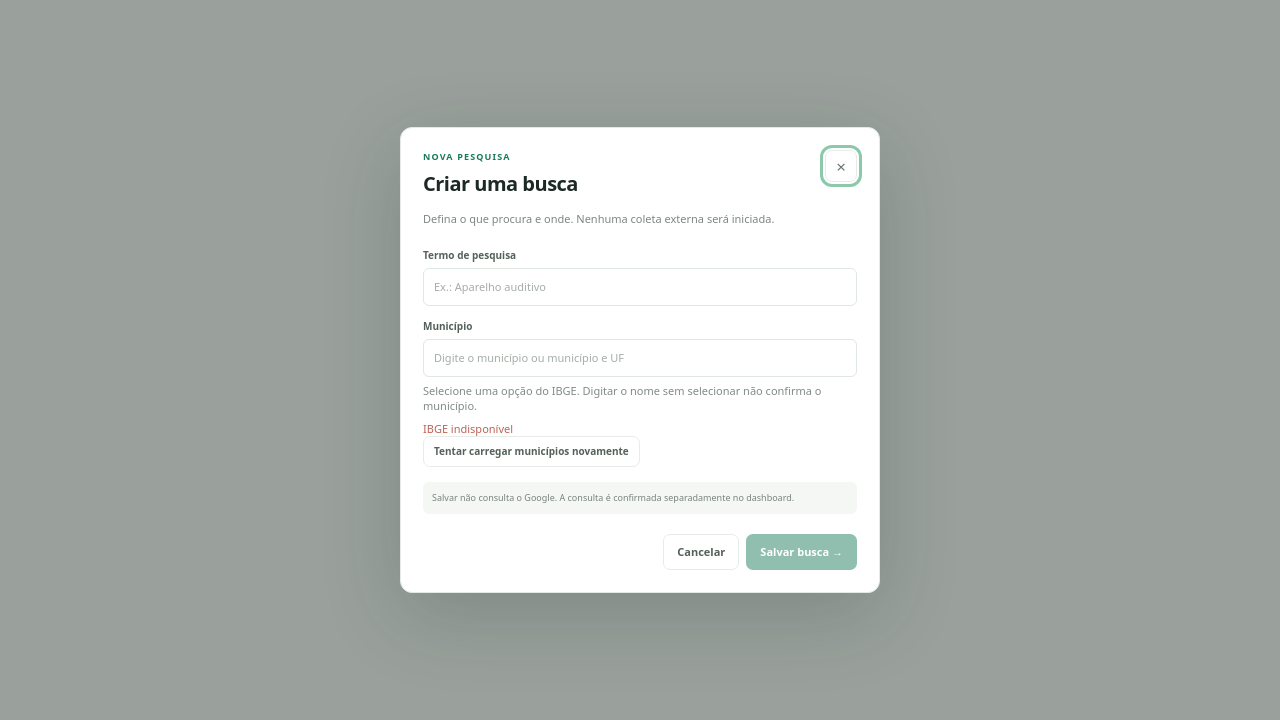
it: catalog errors are shown, retry loads suggestions and no default city is silently chosen
expect the message reads "IBGE indisponível": met, box [423, 421, 513, 436]
expect the dropdown is empty: met, box [423, 339, 857, 377]
Click the button "Tentar carregar municípios novamente" at (531, 451), box [423, 436, 640, 467]
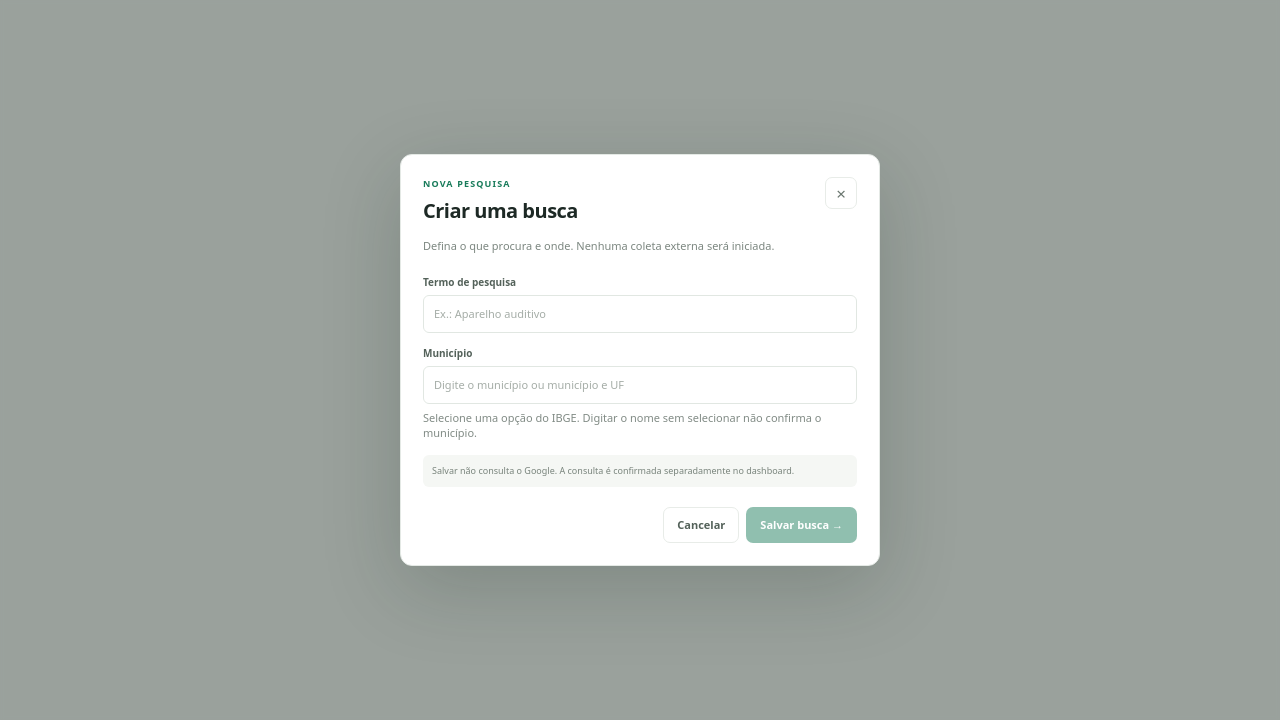
expect the dropdown is enabled: met
Type "belem pa" into the dropdown at (640, 385), box [423, 366, 857, 404]
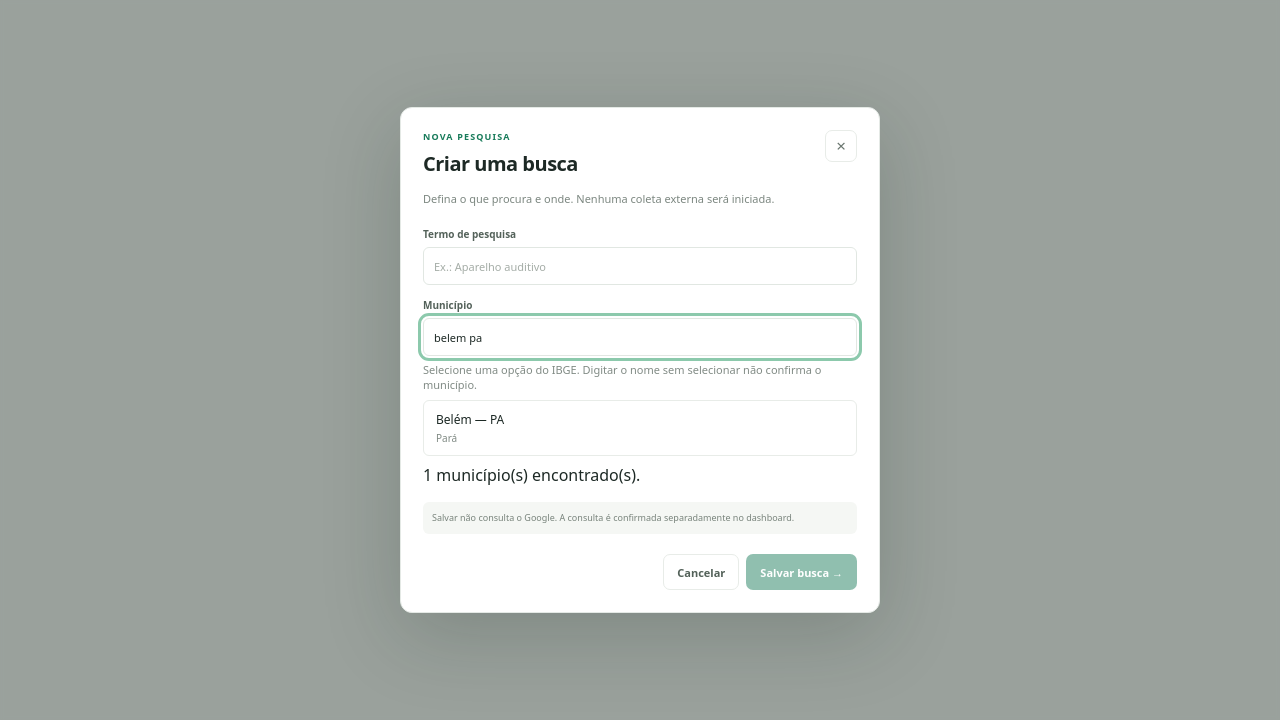
expect the button "Salvar busca →" is disabled: met, box [746, 554, 857, 590]
expect the number of options is 1: met, box [436, 411, 504, 445]
